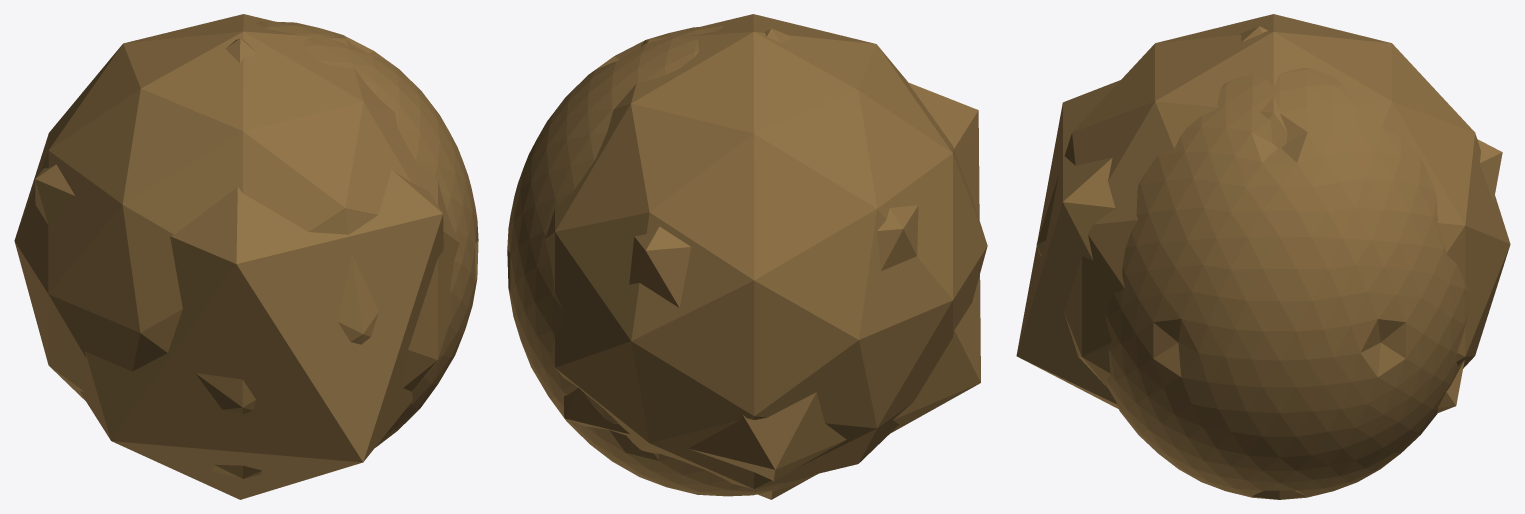
The model's file is tinker_asteroid.glb.
3 renders of one model, left to right at view 1: azimuth 30°, elevation 25°; view 2: azimuth 150°, elevation 25°; view 3: azimuth 270°, elevation 25°, orthographic. The views are drawn at different scales.
Parts seen in each view (by area): view 1: Mesh_Mesh_head_geo.001_lambert2SG.001; view 2: Mesh_Mesh_head_geo.001_lambert2SG.001; view 3: Mesh_Mesh_head_geo.001_lambert2SG.001.
Part boxes in pixels (x1,y1,x2,y2): Mesh_Mesh_head_geo.001_lambert2SG.001: [14, 14, 478, 499]; Mesh_Mesh_head_geo.001_lambert2SG.001: [507, 14, 987, 499]; Mesh_Mesh_head_geo.001_lambert2SG.001: [1016, 14, 1510, 499].
Size of the model in its own units: 23 by 24.86 by 24.41.
